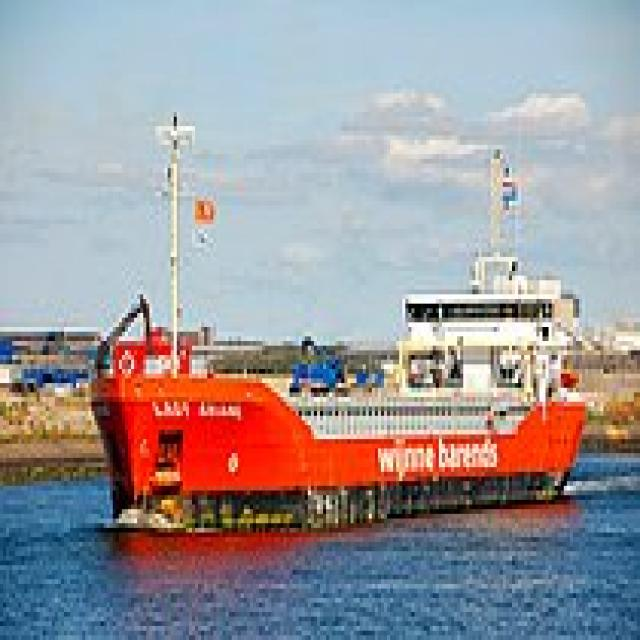Cargo: (82, 102, 585, 532)
